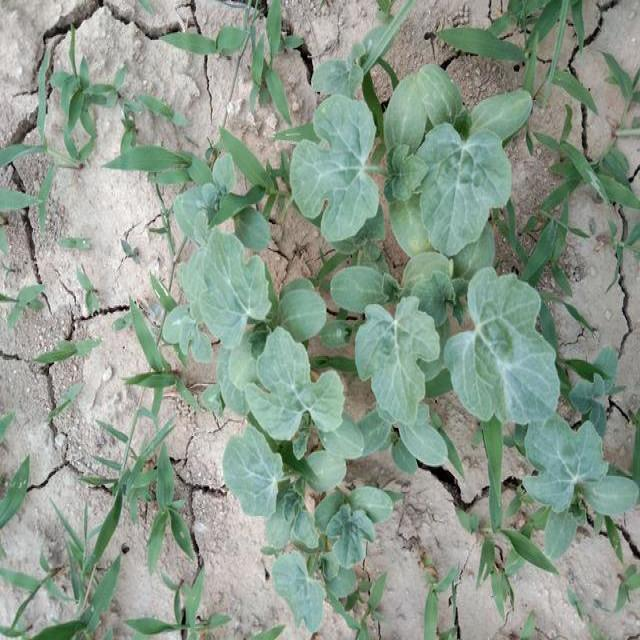weed: (206, 247, 384, 613), (462, 262, 638, 527), (288, 96, 512, 258), (255, 323, 378, 604), (330, 212, 452, 428), (4, 499, 181, 609), (154, 146, 310, 269)
